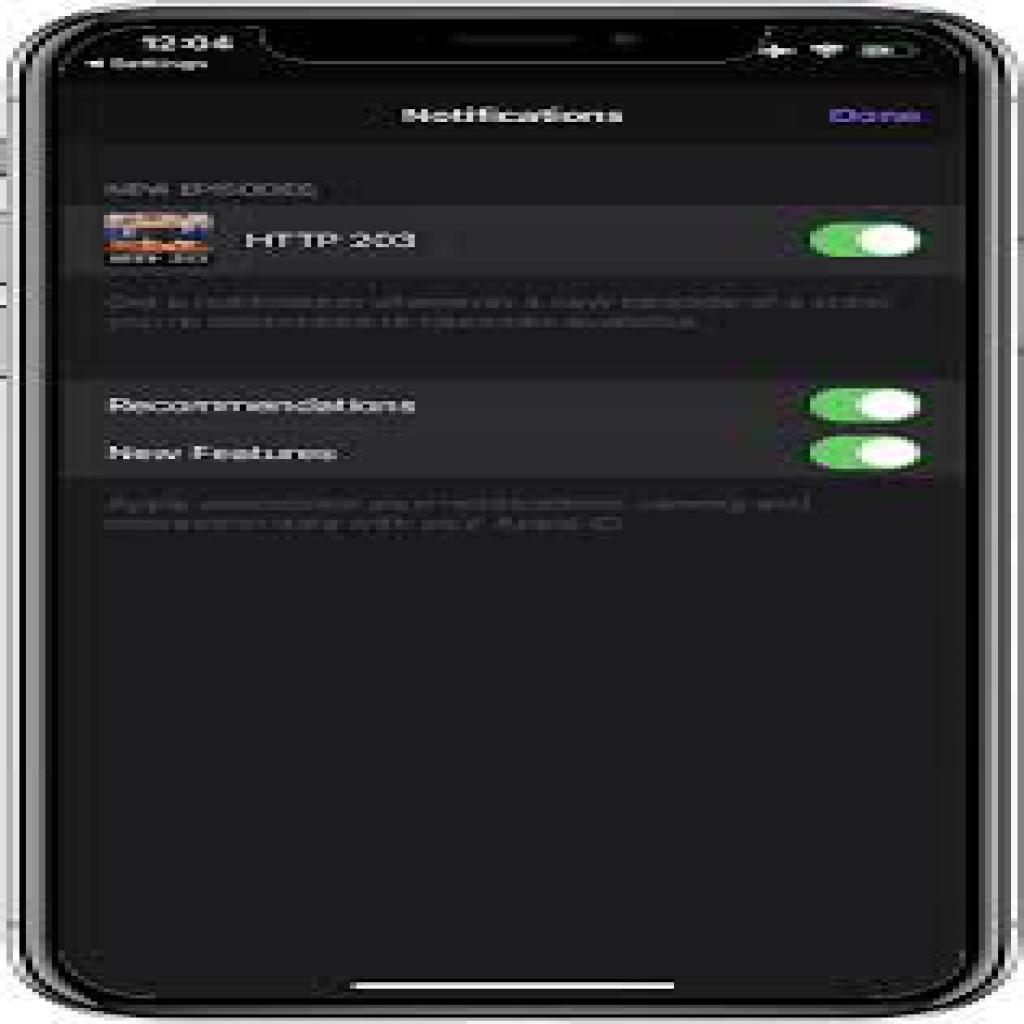switch: (808, 384, 928, 430), (806, 432, 929, 471), (809, 222, 928, 260)
